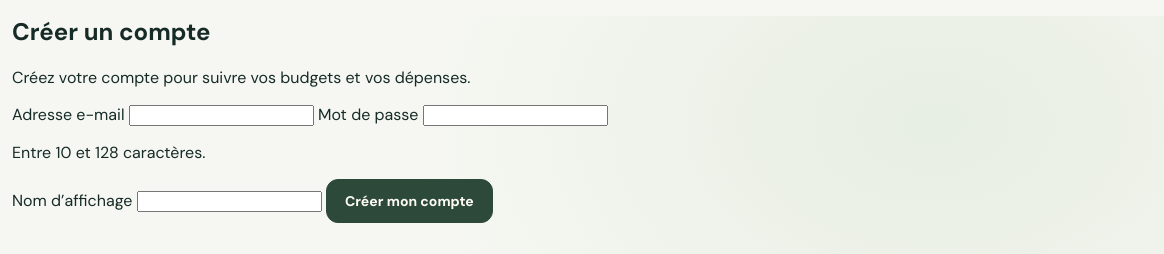
Test: Formulaire d’inscription › annonce la création du compte et renvoie vers la connexion sans se connecter
The width and height of the screenshot is (1164, 254).
Type "alice@example.test" into the field labelled "Adresse e-mail".
click(221, 115); type("alice@example.test")  # box [129,105,314,126]
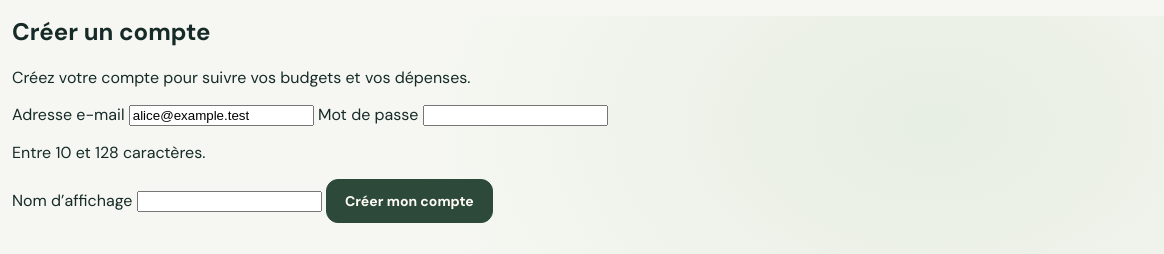
Type "mot-de-passe-solide" into the password field labelled "Mot de passe".
click(515, 115); type("mot-de-passe-solide")  # box [423,105,608,126]
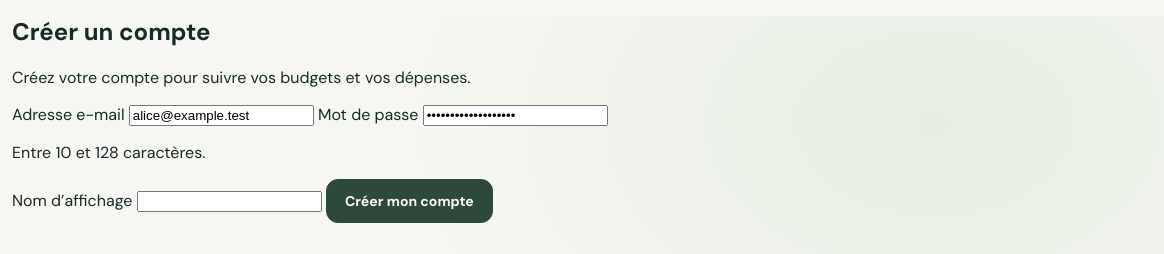
Type "Alice" into the field labelled "Nom d’affichage".
click(229, 201); type("Alice")  # box [137,191,322,212]
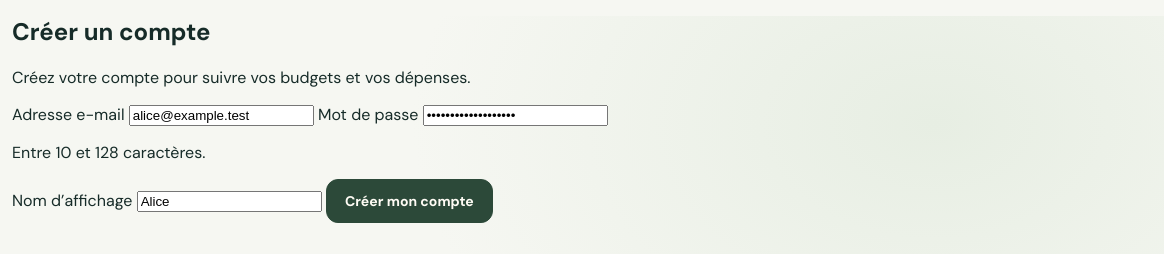
Click the button "Créer mon compte".
click(409, 201)  # box [326,179,493,223]
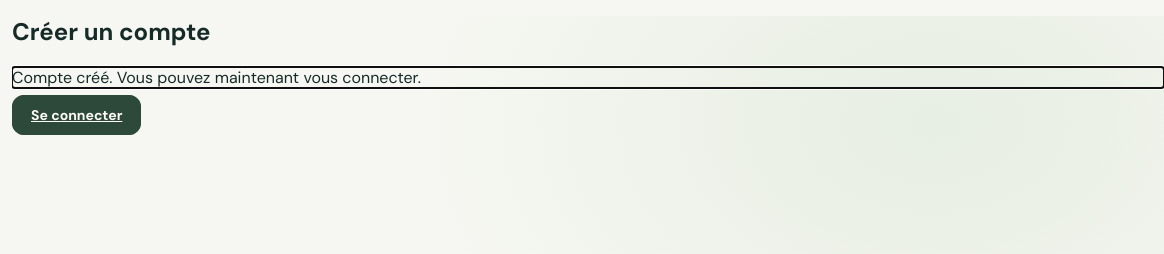
Check: the message reads "Compte créé. Vous pouvez maintenant vous connecter.", box [12,67,421,88]
Check: the button "Créer mon compte" is gone
